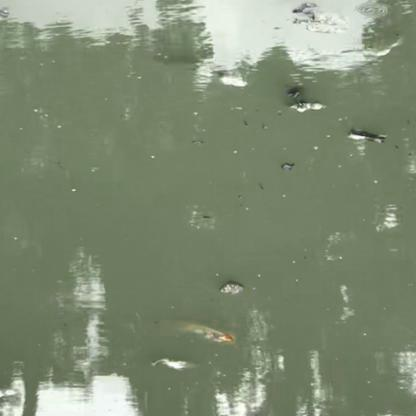Trash: (172, 316, 236, 353), (344, 126, 390, 146), (218, 279, 246, 301)
